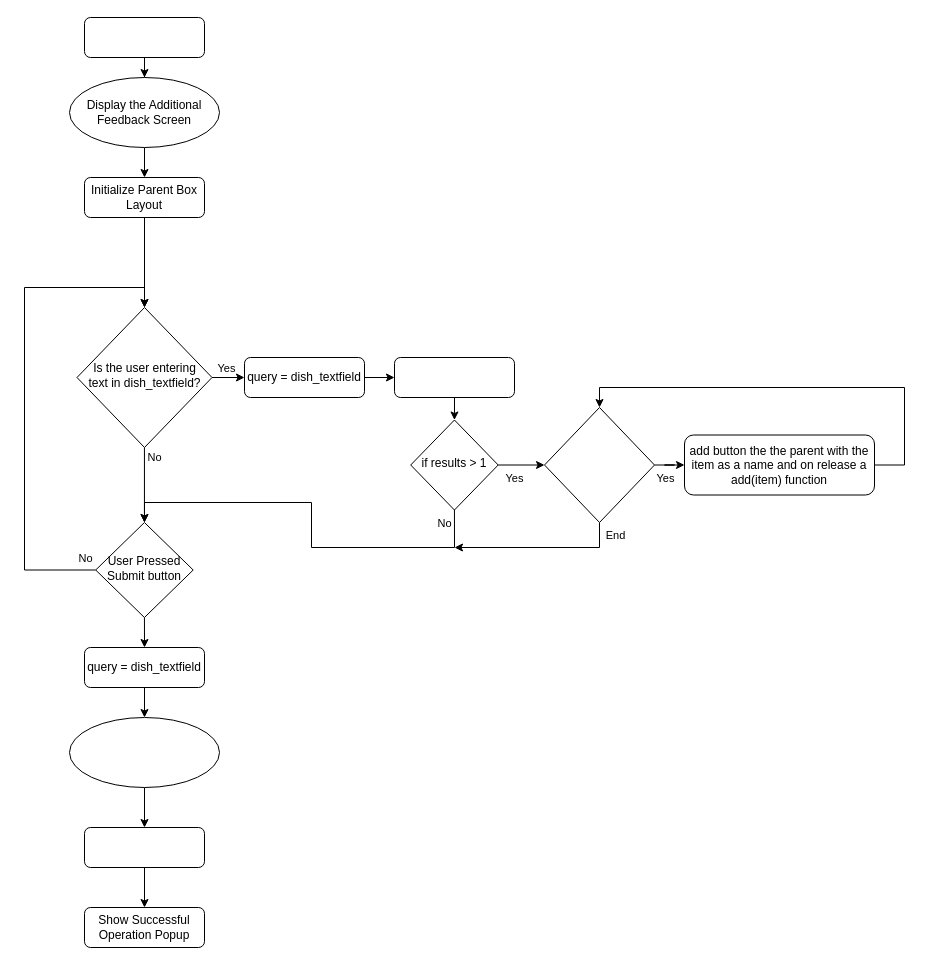
The diagram is 930 pixels wide and 965 high, and some of its shapes have lost their labels. Each missing label, with the centre of its shape:
"Exits feedback screen and go back to main screen" belongs at pixel 144 752.
"iterate for every item in the array" belongs at pixel 599 464.
"search database for looking elements" belongs at pixel 454 377.
"Takes data from text fields and adds them to the db" belongs at pixel 144 847.
"User Clicks on Additional Feedback" belongs at pixel 144 37.
